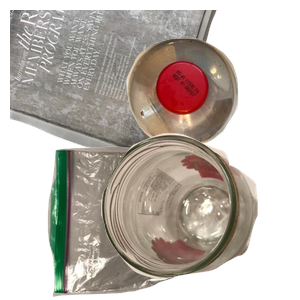glass: (98, 131, 300, 300)
paper: (10, 10, 222, 176)
plastic: (124, 36, 300, 175)
trash: (45, 144, 235, 300)
